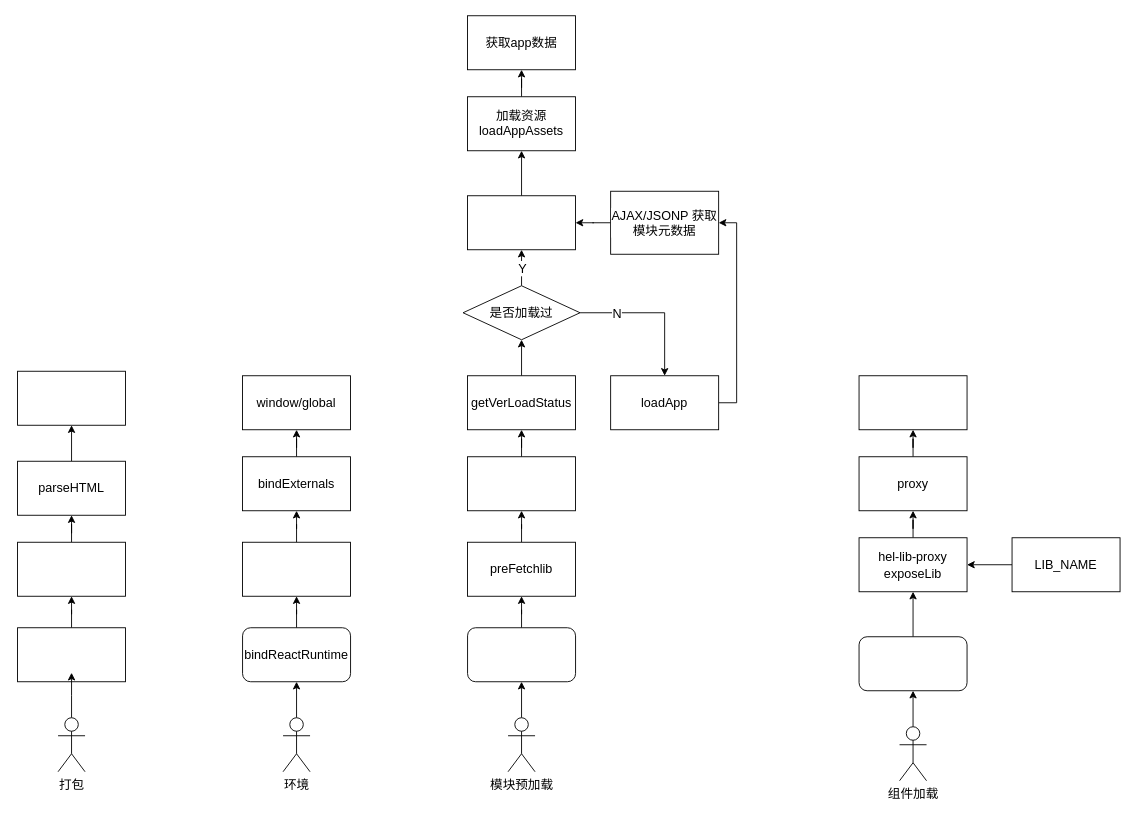
This 1136x818 diagram has some shape labels left out. The centre of each missing label's shape, as x and y in pixels:
appName2Lib: pixel 912 402
createReactSubApp: pixel 71 654
externalObj: pixel 296 568
extractHelMetaJson: pixel 71 568
getLibOrApp: pixel 521 483
metaData: pixel 71 397
waitAppEmit: pixel 521 222
模块: pixel 521 654
组件: pixel 912 663
